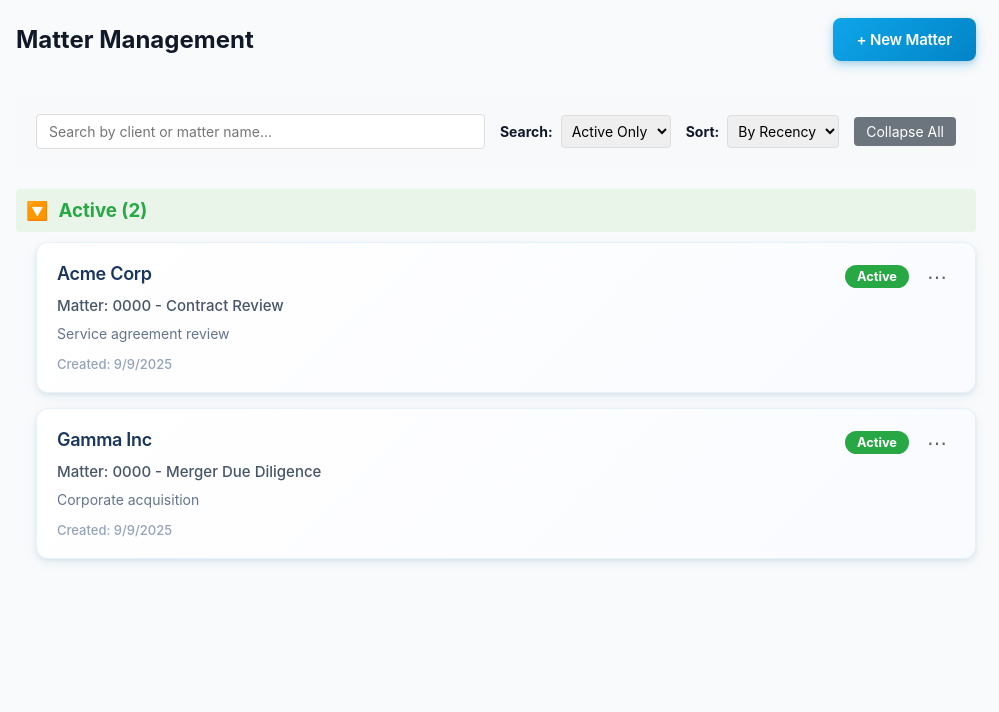
Scenario: MatterManagement - Search and Collapsible Sections › search scope toggle works correctly
Expected: the heading "Active (2)" is shown, [58,199,147,222]
Expected: the text "On Hold" is not shown
Note: Switch to "All Matters"
Select "All Matters" in the dropdown showing "Active Only" next to "Search:". click: (616, 131)
box: [561,115,671,148]
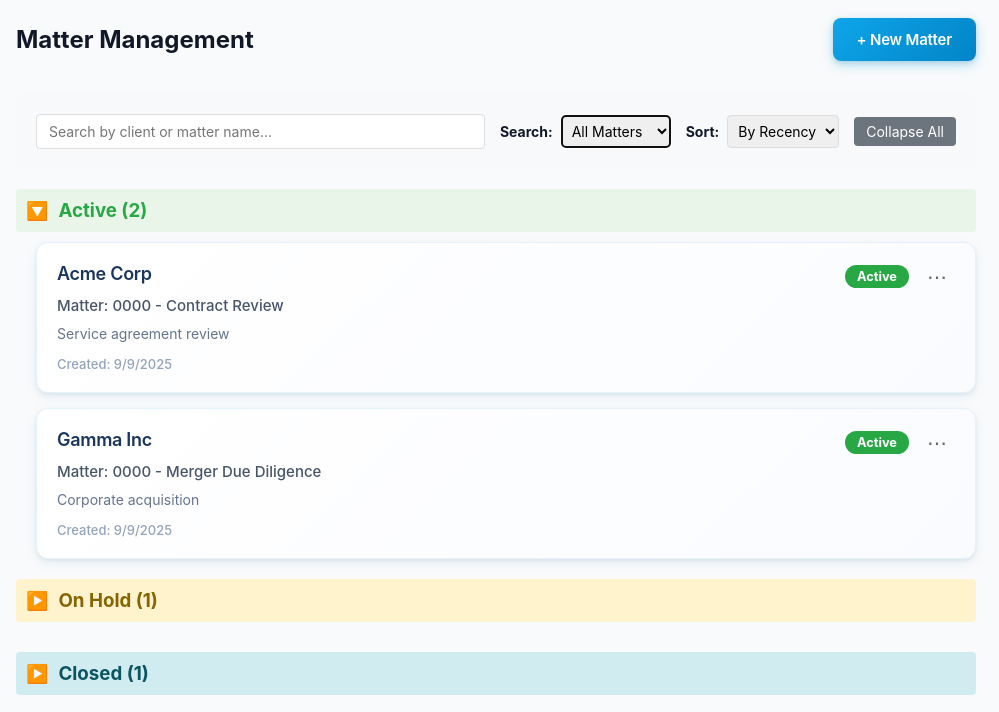
Expected: the heading "Active (2)" is shown, [58,199,147,222]
Now the heading "On Hold (1)" is shown, box [58,589,158,612]
Now the heading "Closed (1)" is shown, box [58,662,149,685]
Note: Switch back to "Active Only"
Select "Active Only" in the dropdown showing "Active Only" next to "Search:". click: (616, 131)
box: [561,115,671,148]
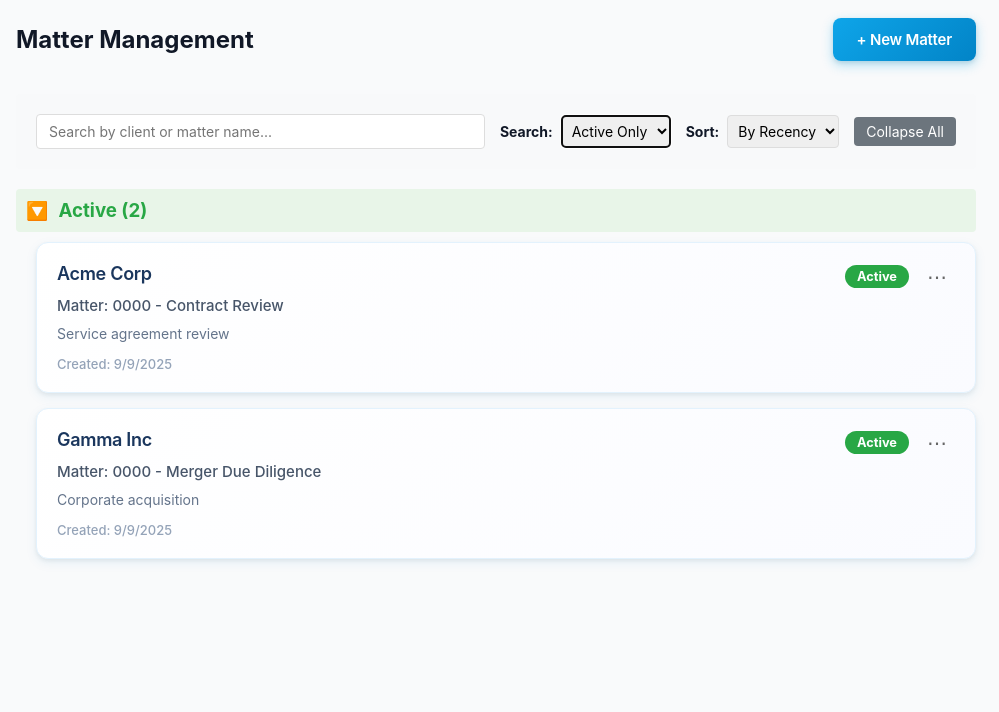
Expected: the heading "Active (2)" is shown, [58,199,147,222]
Now the heading "On Hold" is gone
Now the heading "Closed" is gone
